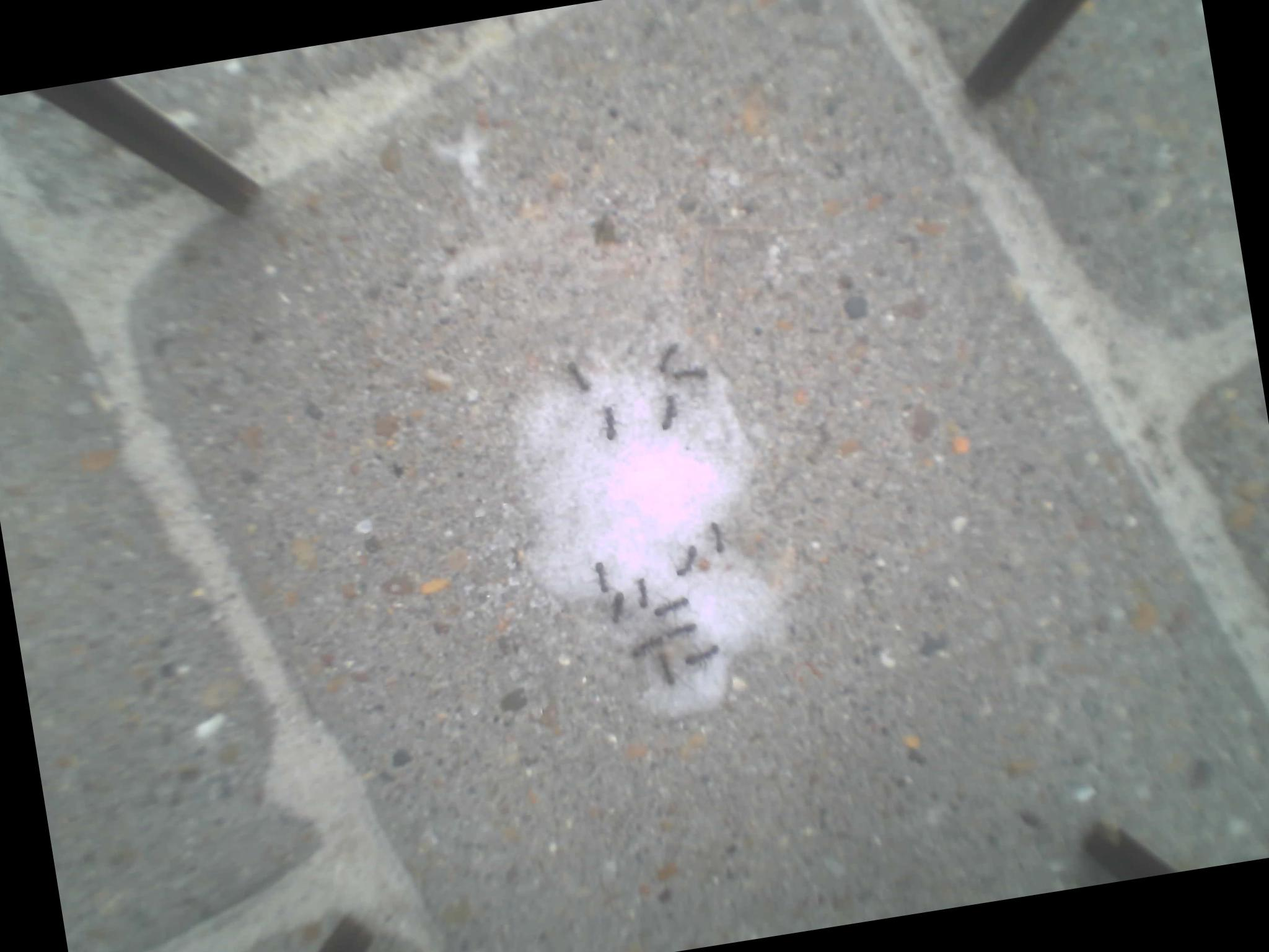Ant: (628, 634, 665, 659), (672, 545, 700, 577), (683, 643, 720, 667), (651, 596, 690, 618), (656, 393, 679, 430), (654, 343, 681, 374), (566, 360, 590, 393), (655, 649, 674, 688), (670, 365, 708, 384), (607, 590, 627, 624), (664, 621, 697, 639), (600, 406, 617, 440), (592, 561, 609, 593), (709, 520, 725, 553), (634, 577, 648, 608)
